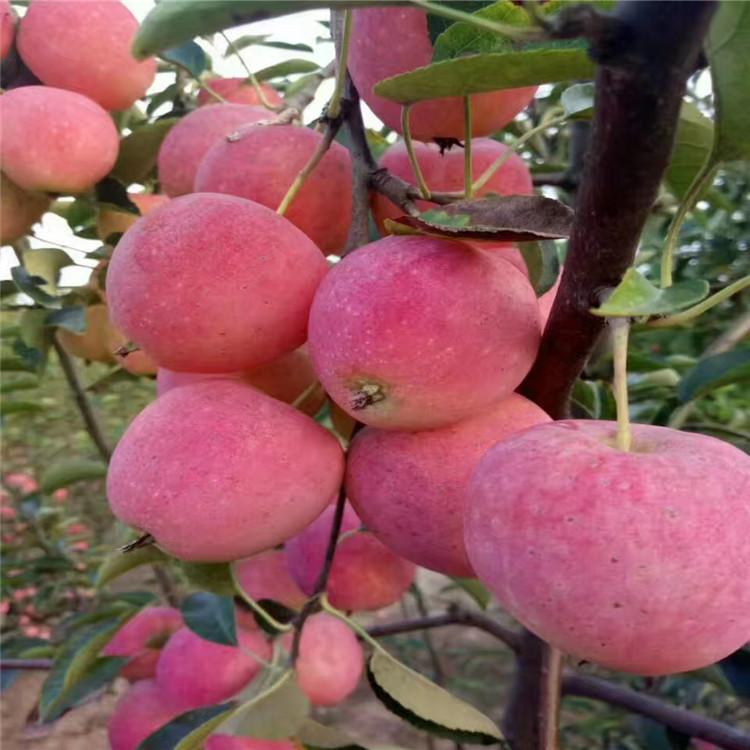apple: (468, 416, 748, 681), (302, 225, 548, 422), (111, 384, 343, 562), (104, 193, 308, 370), (1, 86, 122, 202)
